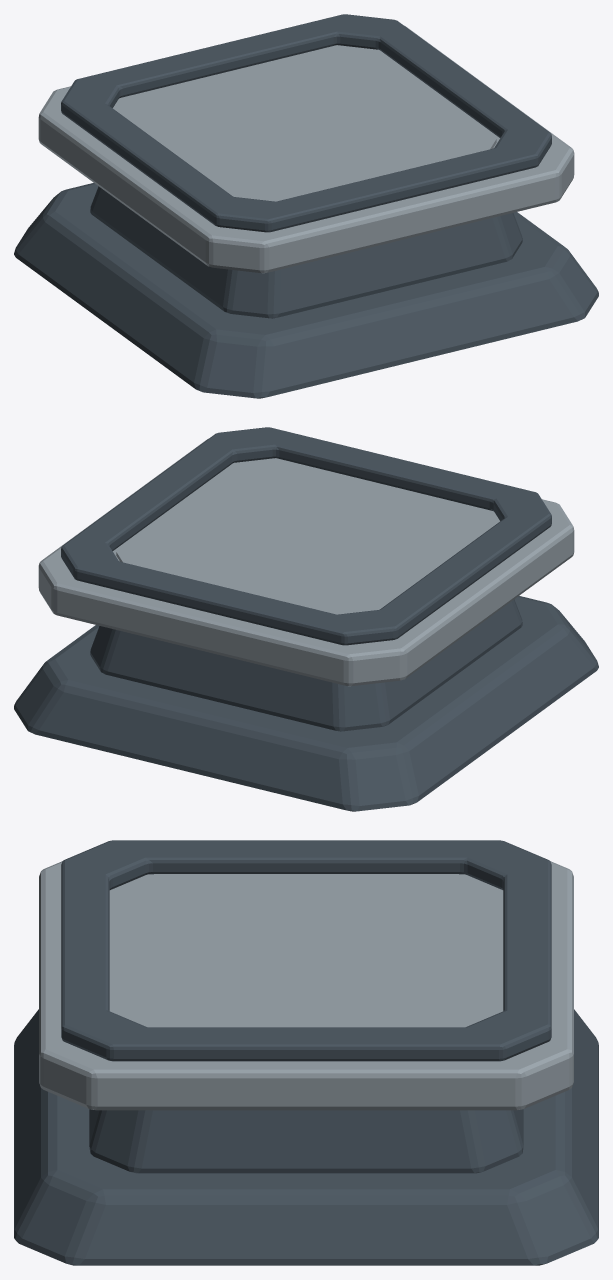
File: ReceptaculoCentral.fbx
3 views of the same model, one above another, from view 1: azimuth 30°, elevation 25°; view 2: azimuth 150°, elevation 25°; view 3: azimuth 270°, elevation 25° (orthographic). The views are drawn at different scales.
Parts seen in each view (by area): view 1: Receptaculo_BaseEstrutural, Receptaculo_AreaValidacao, Receptaculo_BordaElevada, Receptaculo_PlataformaSuperior, Receptaculo_SuporteCentral; view 2: Receptaculo_BaseEstrutural, Receptaculo_AreaValidacao, Receptaculo_BordaElevada, Receptaculo_PlataformaSuperior, Receptaculo_SuporteCentral; view 3: Receptaculo_BaseEstrutural, Receptaculo_AreaValidacao, Receptaculo_BordaElevada, Receptaculo_PlataformaSuperior, Receptaculo_SuporteCentral.
Part boxes in pixels (x1,y1,x2,y2): Receptaculo_BaseEstrutural: (14, 183, 598, 398); Receptaculo_AreaValidacao: (117, 45, 496, 201); Receptaculo_BordaElevada: (61, 14, 551, 232); Receptaculo_PlataformaSuperior: (38, 25, 574, 273); Receptaculo_SuporteCentral: (90, 186, 522, 318); Receptaculo_BaseEstrutural: (14, 596, 598, 811); Receptaculo_AreaValidacao: (116, 458, 495, 614); Receptaculo_BordaElevada: (61, 427, 551, 645); Receptaculo_PlataformaSuperior: (38, 438, 574, 686); Receptaculo_SuporteCentral: (90, 599, 522, 731); Receptaculo_BaseEstrutural: (14, 1009, 598, 1265); Receptaculo_AreaValidacao: (117, 874, 495, 1027); Receptaculo_BordaElevada: (61, 840, 551, 1061); Receptaculo_PlataformaSuperior: (39, 861, 573, 1110); Receptaculo_SuporteCentral: (89, 1109, 523, 1173).
Bounding box in the file's own units: 157 × 60 × 157.
